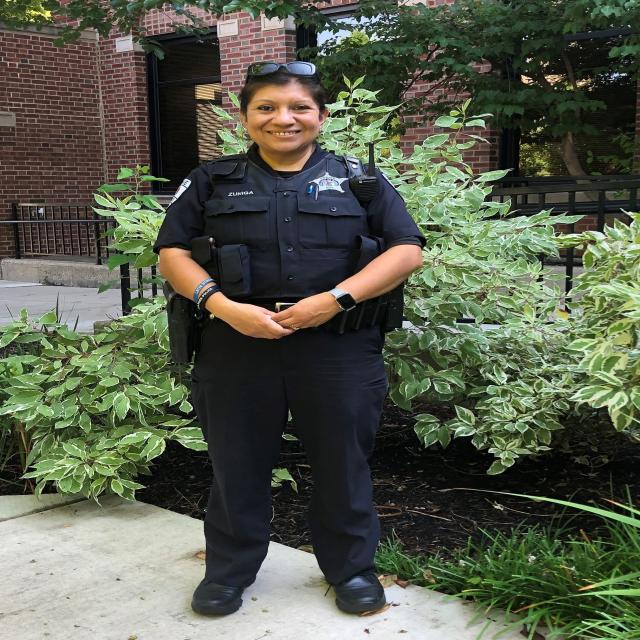police: (144, 55, 438, 628)
